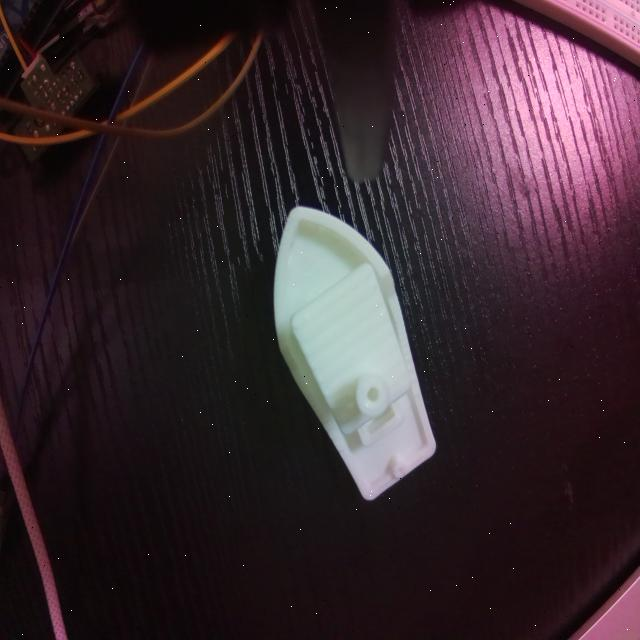ship: (273, 204, 438, 504)
